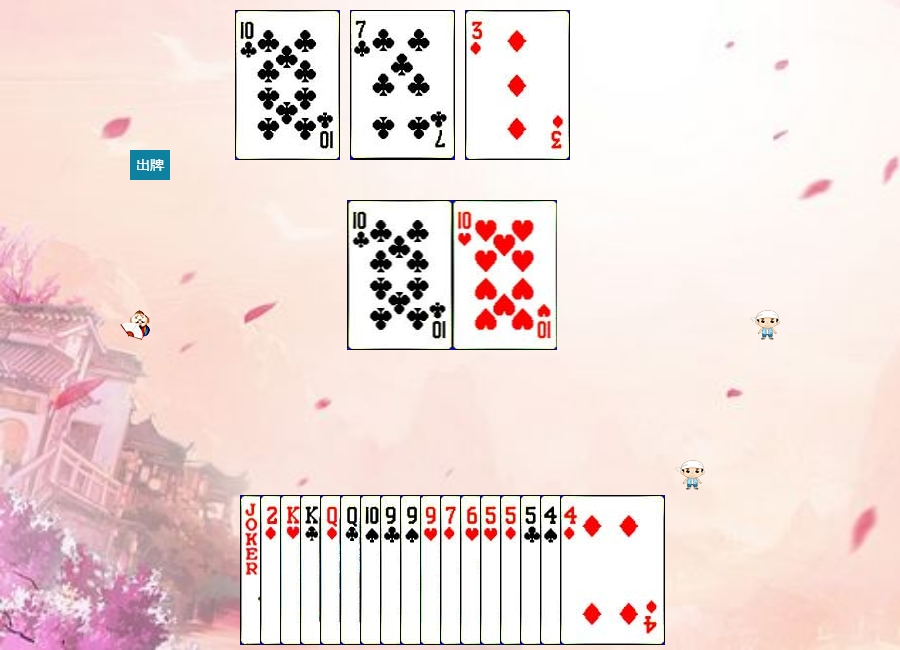10~2: (235, 10, 340, 160), (348, 200, 453, 350)
10~3: (453, 200, 558, 350)
10~4: (360, 495, 465, 645)
12~1: (320, 495, 425, 645)
12~2: (340, 495, 445, 645)
13~2: (300, 495, 405, 645)
13~3: (280, 495, 385, 645)
15~1: (260, 495, 365, 645)
18~4: (240, 495, 345, 645)
3~1: (465, 10, 570, 160)
4~1: (560, 495, 665, 645)
4~4: (540, 495, 645, 645)
5~1: (500, 495, 605, 645)
5~2: (520, 495, 625, 645)
5~3: (480, 495, 585, 645)
6~3: (460, 495, 565, 645)
7~1: (440, 495, 545, 645)
7~2: (350, 10, 455, 160)
9~2: (380, 495, 485, 645)
9~3: (420, 495, 525, 645)
9~4: (400, 495, 505, 645)
